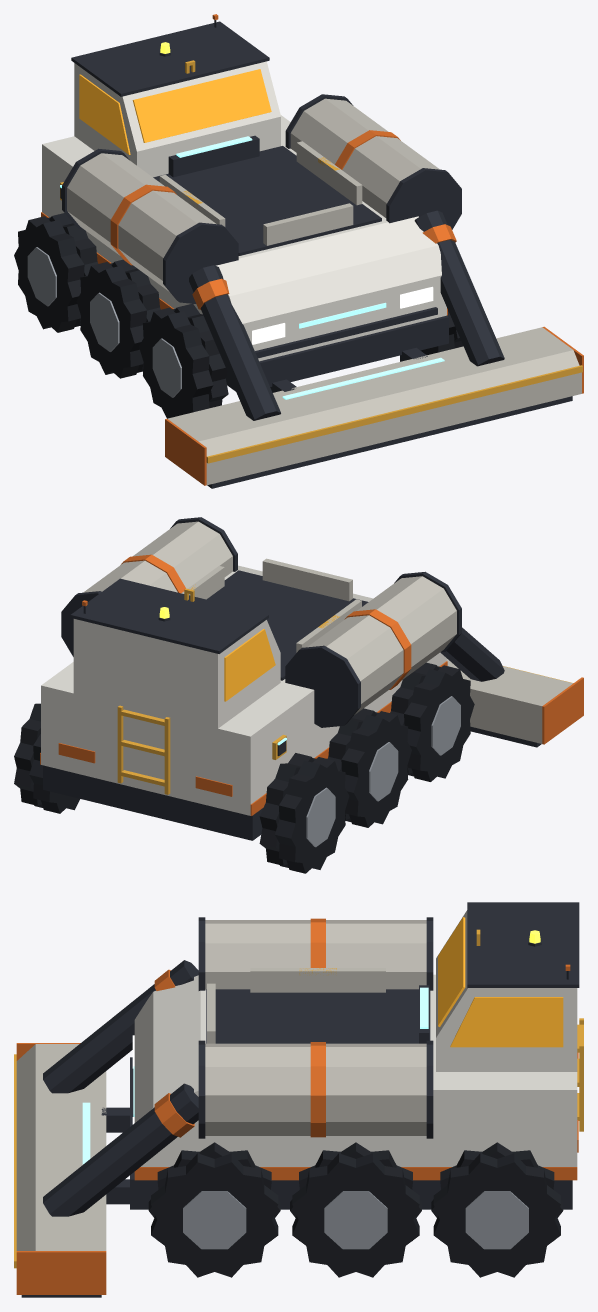
File: vozidlo-mega.glb
The picture shows the model from 3 angles, top to bottom: view 1: azimuth 30°, elevation 25°; view 2: azimuth 150°, elevation 25°; view 3: azimuth 270°, elevation 25°; orthographic projection. The views are drawn at different scales.
Parts seen in each view (by area): view 1: karoserie, saci_hlava, kolo_1, kolo_3, kolo_5; view 2: karoserie, kolo_5, kolo_1, saci_hlava, kolo_3, kolo_6; view 3: karoserie, saci_hlava, kolo_2, kolo_6, kolo_4.
Part boxes in pixels (x1=…): karoserie: x1=41, y1=14, x2=504, y2=420; saci_hlava: x1=165, y1=326, x2=583, y2=488; kolo_1: x1=139, y1=303, x2=228, y2=418; kolo_3: x1=76, y1=259, x2=160, y2=378; kolo_5: x1=14, y1=213, x2=98, y2=332; karoserie: x1=40, y1=517, x2=504, y2=840; kolo_5: x1=259, y1=753, x2=349, y2=873; kolo_1: x1=390, y1=662, x2=474, y2=781; saci_hlava: x1=446, y1=658, x2=583, y2=747; kolo_3: x1=327, y1=708, x2=411, y2=827; kolo_6: x1=14, y1=703, x2=79, y2=813; karoserie: x1=43, y1=902, x2=583, y2=1216; saci_hlava: x1=14, y1=1043, x2=106, y2=1297; kolo_2: x1=148, y1=1142, x2=280, y2=1277; kolo_6: x1=431, y1=1142, x2=563, y2=1277; kolo_4: x1=290, y1=1142, x2=421, y2=1277.
Size of the model in its own units: 5.26 by 3.2 by 6.05.
